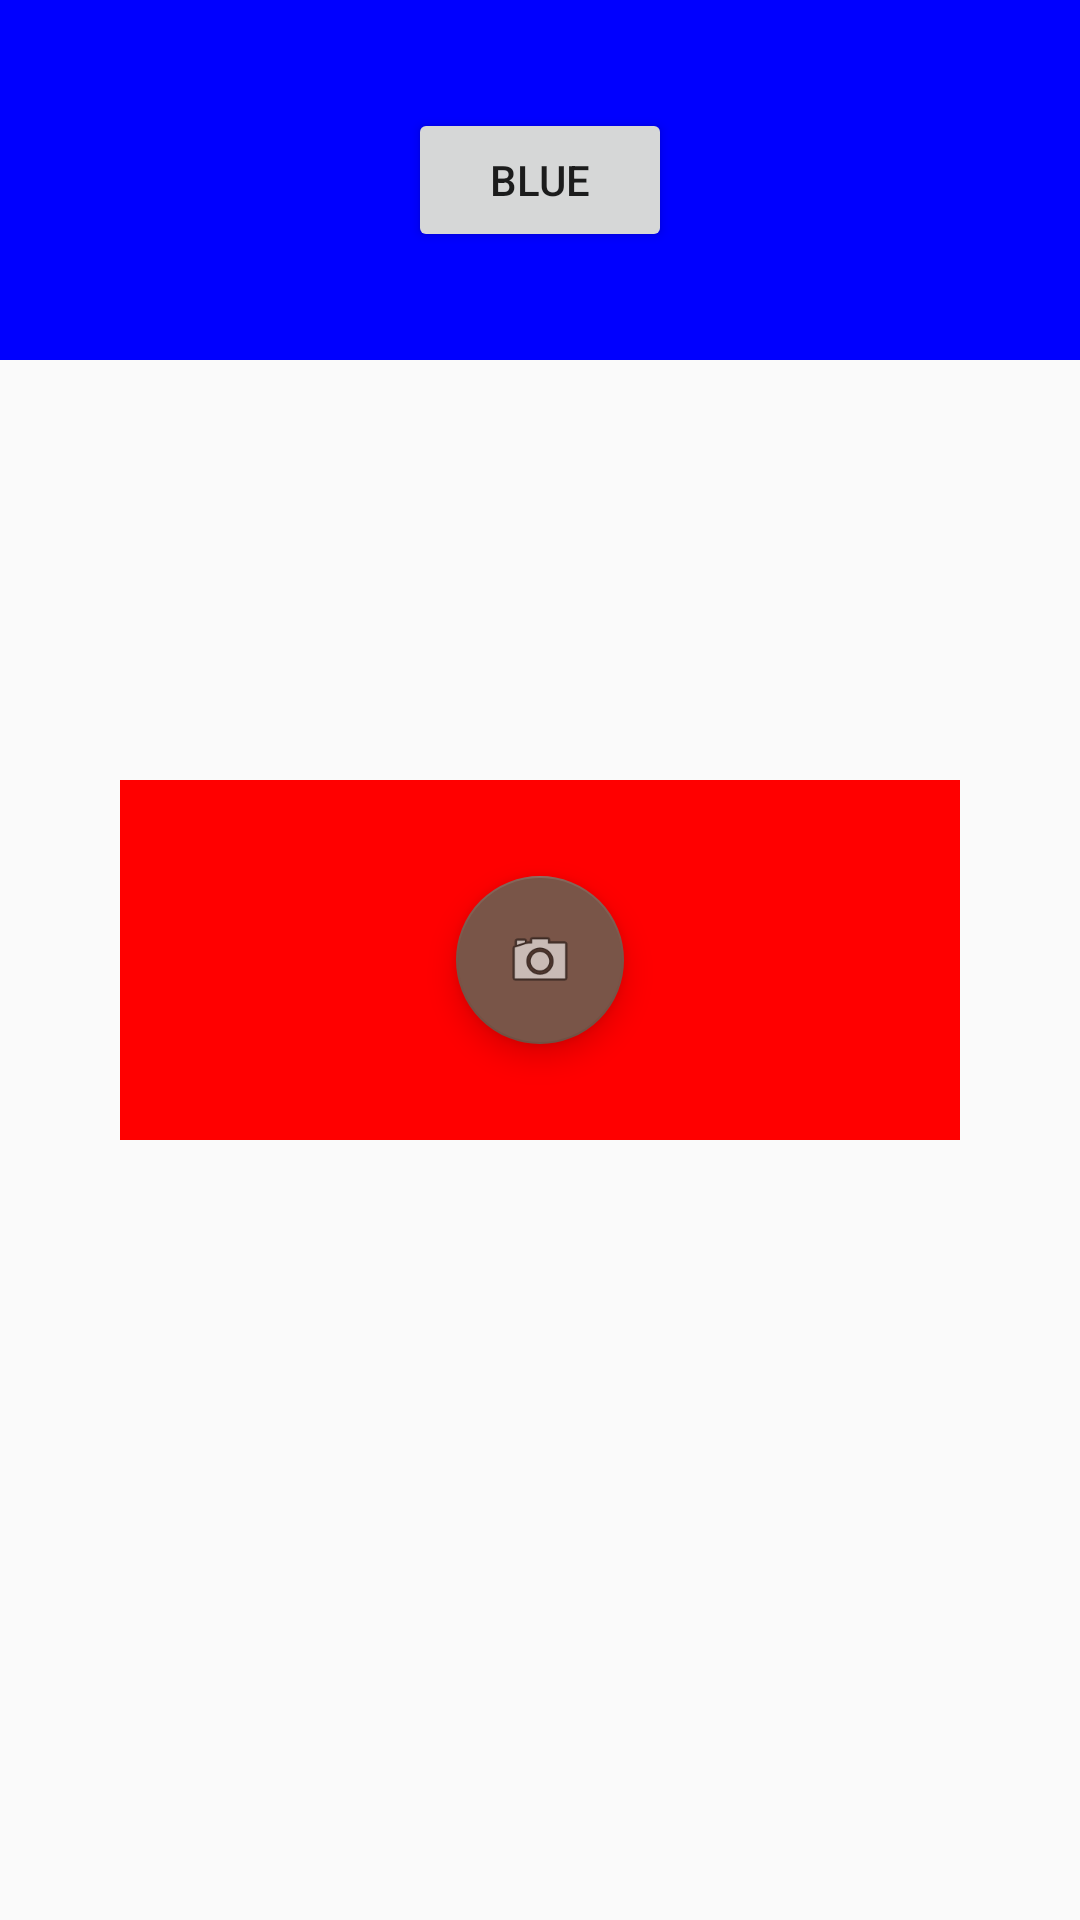

Locate icon controls on the screen. Image size 1080w x 1920h, boxes as [left=x1, top=y1, right=x2, bottom=y2].
camera: [left=456, top=876, right=624, bottom=1044]
